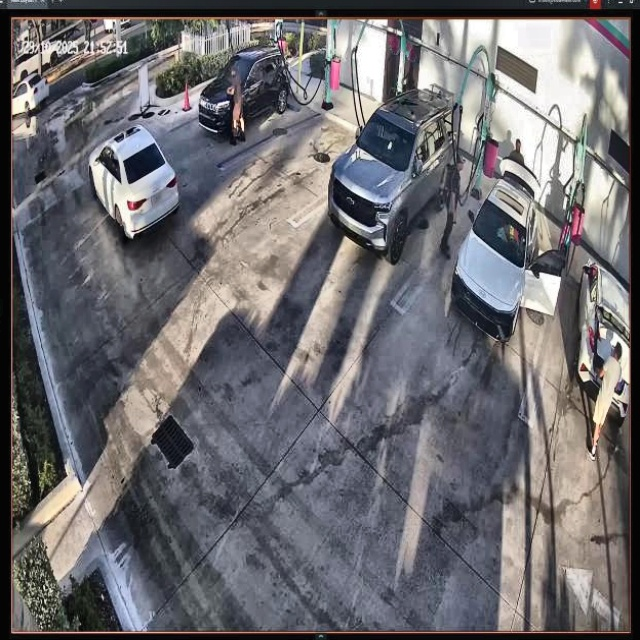Car: (327, 87, 456, 259), (455, 167, 557, 337), (91, 123, 178, 239)
